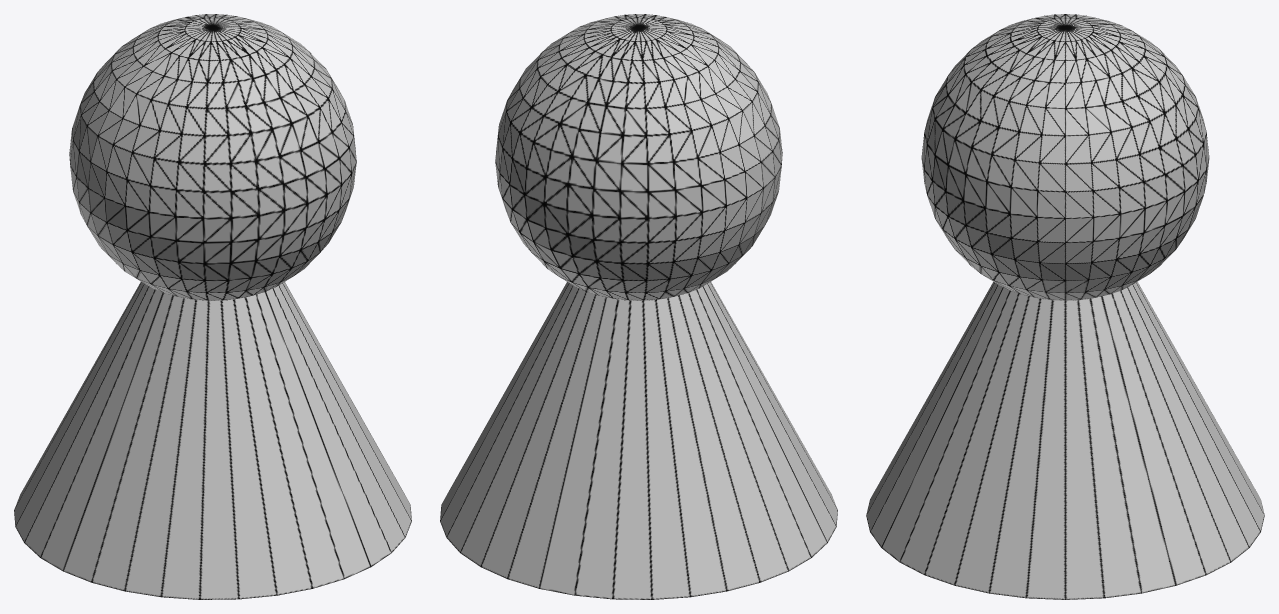
File: ThrowingBorn.obj
The picture shows the model from 3 angles, left to right: view 1: azimuth 30°, elevation 25°; view 2: azimuth 150°, elevation 25°; view 3: azimuth 270°, elevation 25°; orthographic projection.
Visible parts, largest first — view 1: 球; view 2: 球; view 3: 球.
Part boxes in pixels (<box>): 球: <box>14,14,411,599</box>; 球: <box>440,14,837,599</box>; 球: <box>866,14,1264,599</box>.
Bounding box in the file's own units: 0.9461 × 1.28 × 0.9461.
Materials: 1 (1 with a texture image).
